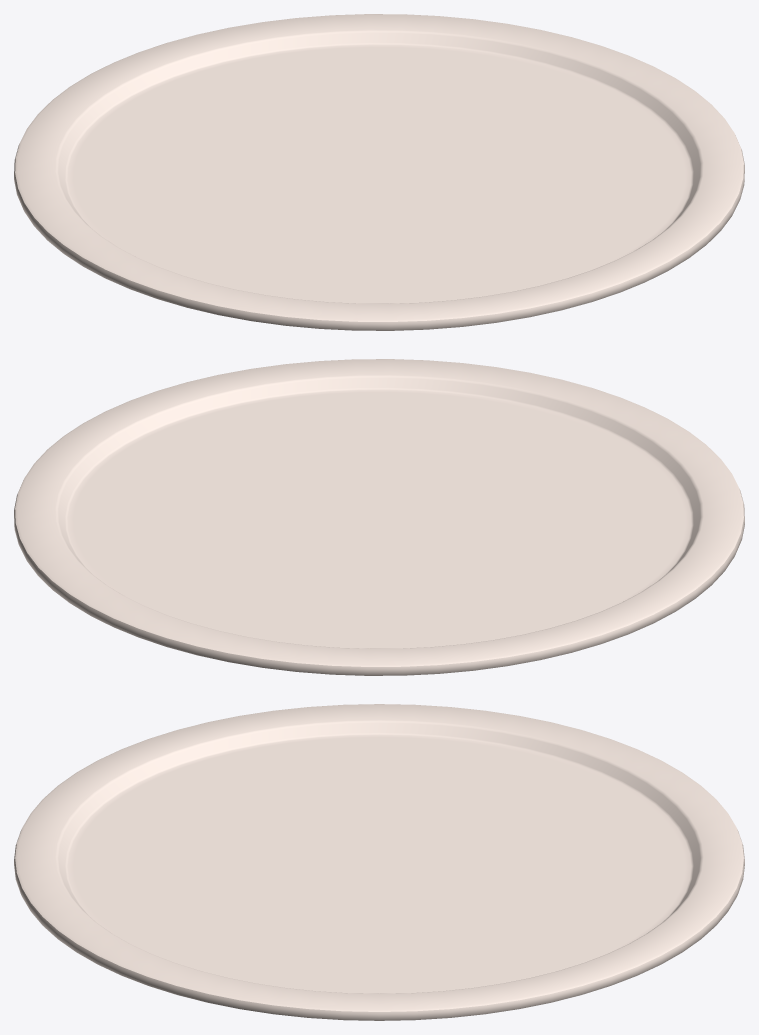
The model's file is Plate.fbx.
3 views of the same model, one above another, from view 1: azimuth 30°, elevation 25°; view 2: azimuth 150°, elevation 25°; view 3: azimuth 270°, elevation 25° (orthographic).
Parts seen in each view (by area): view 1: Plate; view 2: Plate; view 3: Plate.
Part boxes in pixels (box(x1,y1,x2,y2)): Plate: box(14, 14, 744, 330); Plate: box(14, 359, 744, 675); Plate: box(14, 704, 744, 1020).
Size of the model in its own units: 0.9836 by 0.0523 by 0.9836.
Materials: 1 (1 with a texture image).
